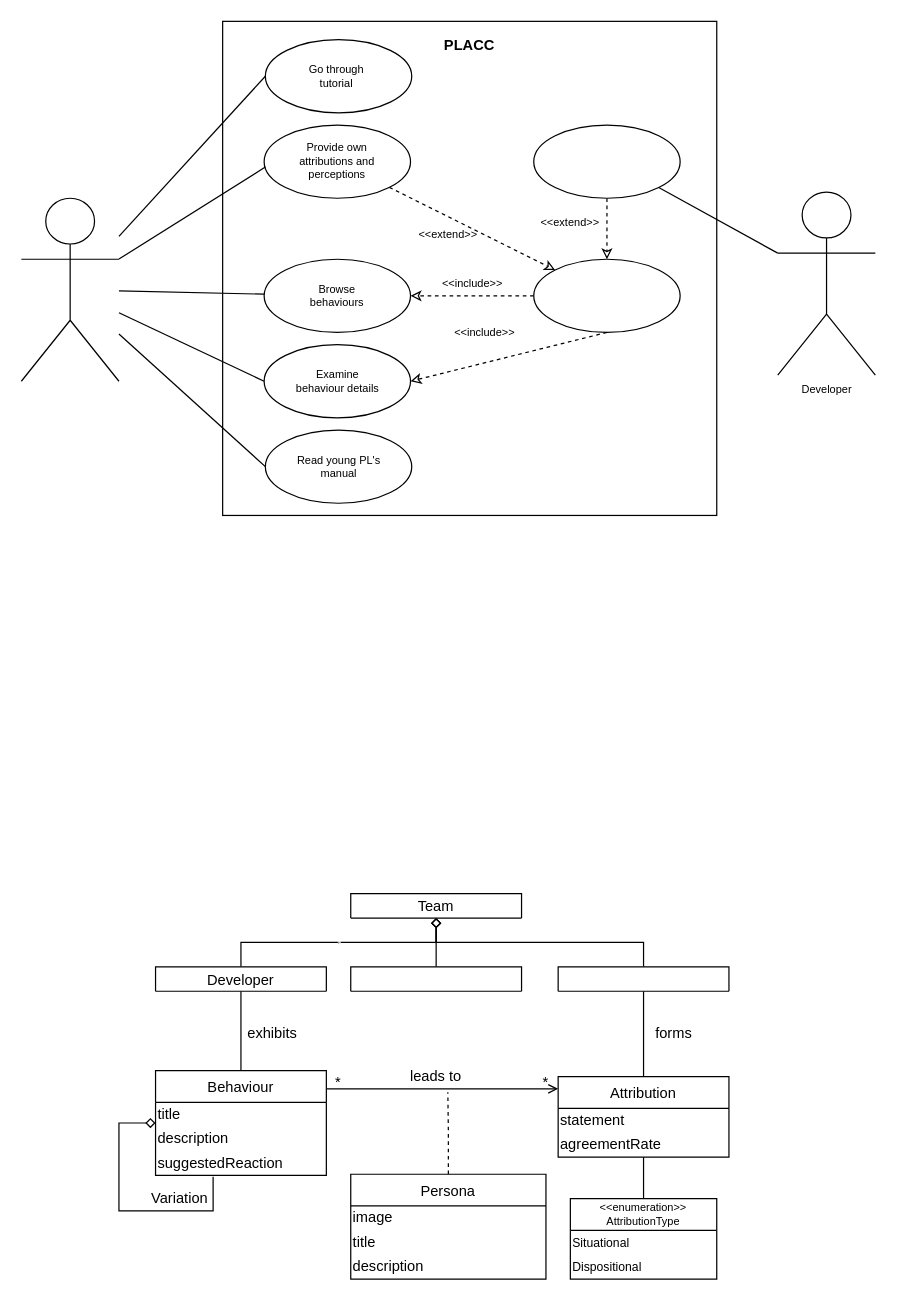
This 897x1301 diagram has some shape labels left out. Each missing label, with the centre of its shape:
"Analyze behaviour and attribution data" goes at (x=606, y=295).
"Coach" goes at (x=436, y=978).
"Project Leader" goes at (x=69, y=289).
"ProjectLeader" goes at (x=643, y=978).
"Provide reason for behaviour" goes at (x=606, y=161).
